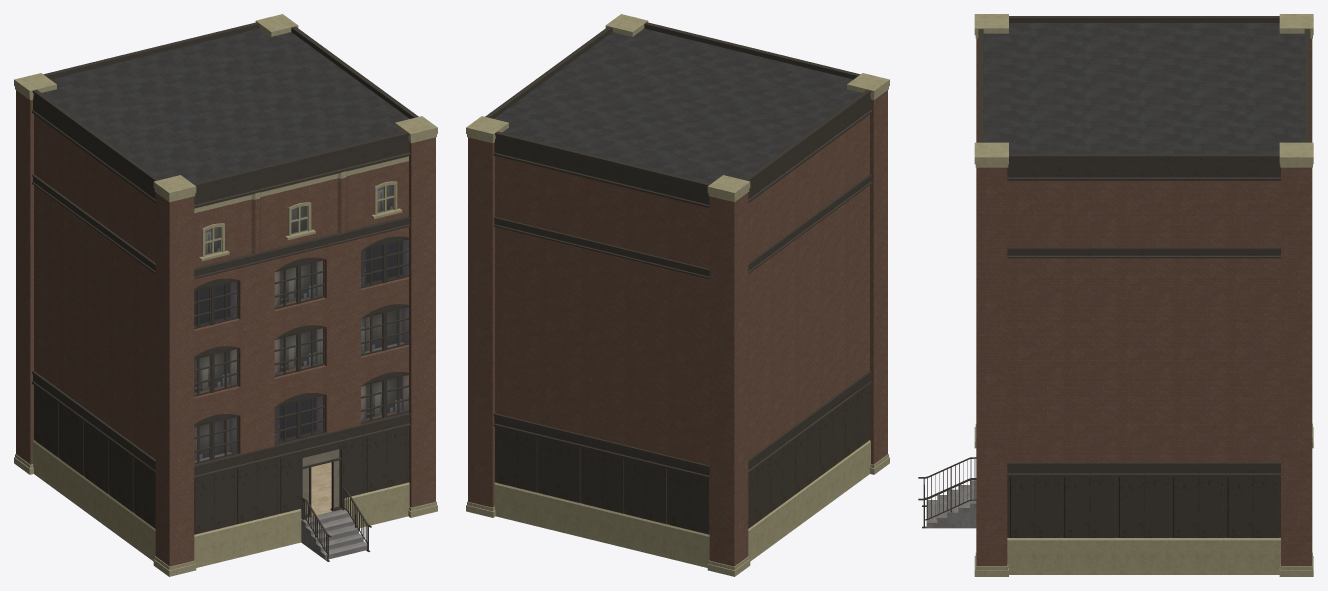
File: b_small.glb
3 renders of one model, left to right at view 1: azimuth 30°, elevation 25°; view 2: azimuth 150°, elevation 25°; view 3: azimuth 270°, elevation 25°, orthographic. The views are drawn at different scales.
Parts seen in each view (by area): view 1: Building_Small_1; view 2: Building_Small_1; view 3: Building_Small_1.
Boxes of the visible parts, x1,y1,x2,y2 form: Building_Small_1: (14,14,437,576); Building_Small_1: (466,14,889,576); Building_Small_1: (918,14,1313,576).
Size of the model in its own units: 12.46 by 17.03 by 14.54.
10 materials, 9 textured.
